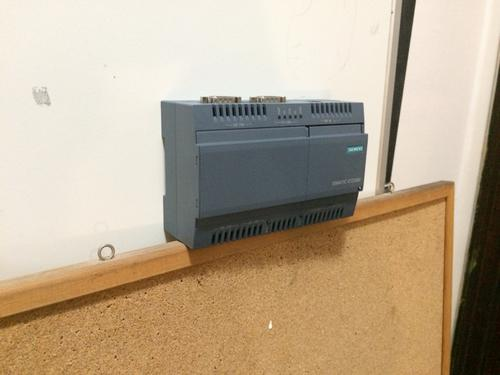iot2000: (160, 95, 369, 252)
